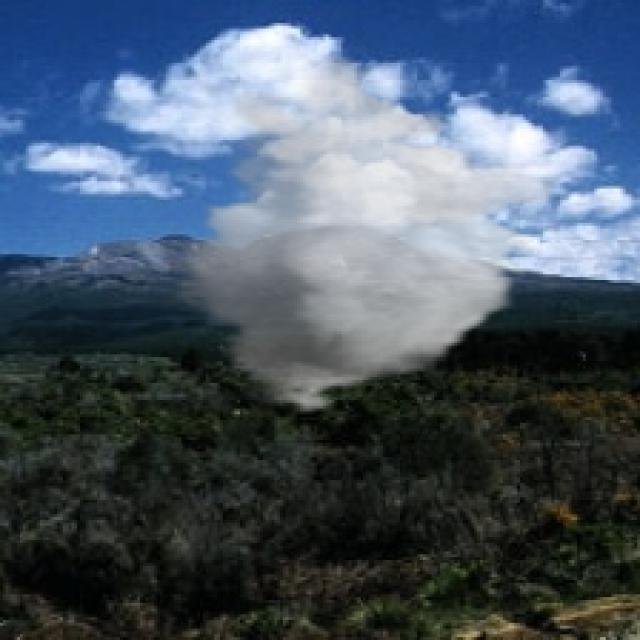smoke: (157, 54, 557, 417)
